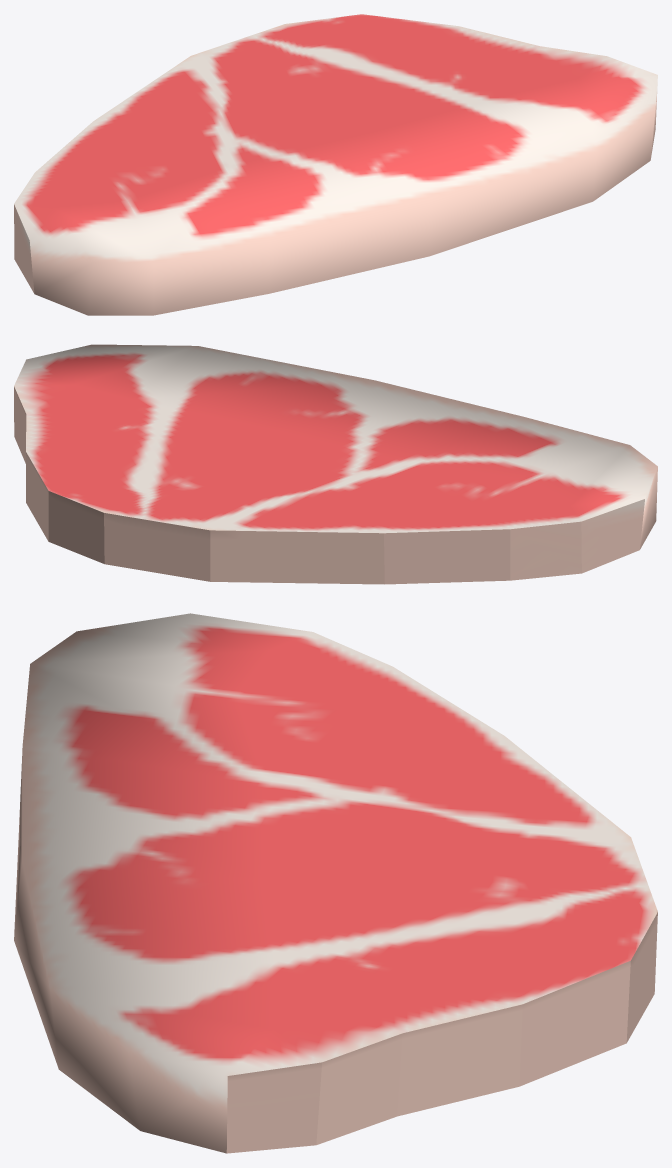
The model's file is RouKuaiA.fbx.
3 views of the same model, one above another, from view 1: azimuth 30°, elevation 25°; view 2: azimuth 150°, elevation 25°; view 3: azimuth 270°, elevation 25° (orthographic). The views are drawn at different scales.
Visible parts, largest first — view 1: Plane001; view 2: Plane001; view 3: Plane001.
Part boxes in pixels (x1=…): Plane001: x1=14, y1=14, x2=657, y2=315; Plane001: x1=14, y1=344, x2=657, y2=584; Plane001: x1=14, y1=613, x2=657, y2=1153.
Bounding box in the file's own units: 69.09 × 5.69 × 40.64.
